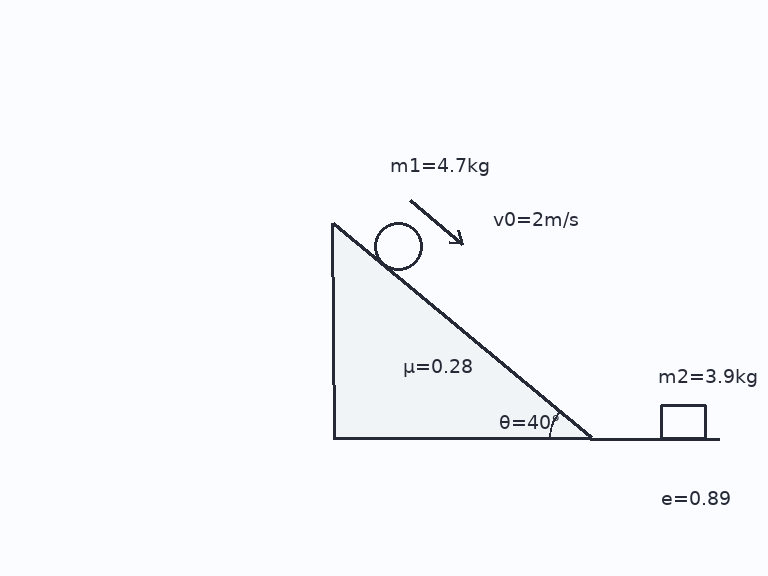ball: (372, 220, 424, 272)
block: (659, 404, 707, 440)
ramp: (331, 221, 592, 440)
